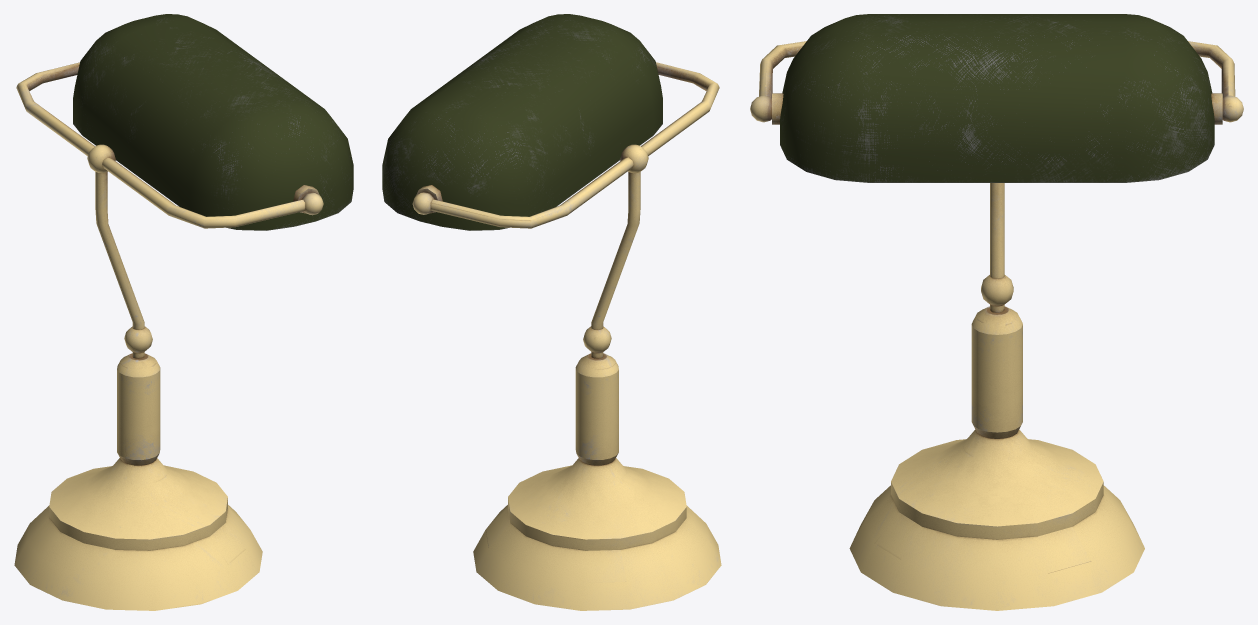
The model's file is lmalp.fbx.
3 renders of one model, left to right at view 1: azimuth 30°, elevation 25°; view 2: azimuth 150°, elevation 25°; view 3: azimuth 270°, elevation 25°, orthographic. The views are drawn at different scales.
Visible parts, largest first — view 1: S_TableLamp; view 2: S_TableLamp; view 3: S_TableLamp.
Part boxes in pixels (<box>): S_TableLamp: <box>14,14,353,610</box>; S_TableLamp: <box>382,14,721,610</box>; S_TableLamp: <box>750,14,1243,610</box>.
Bounding box in the file's own units: 35.91 × 63.03 × 50.13.
